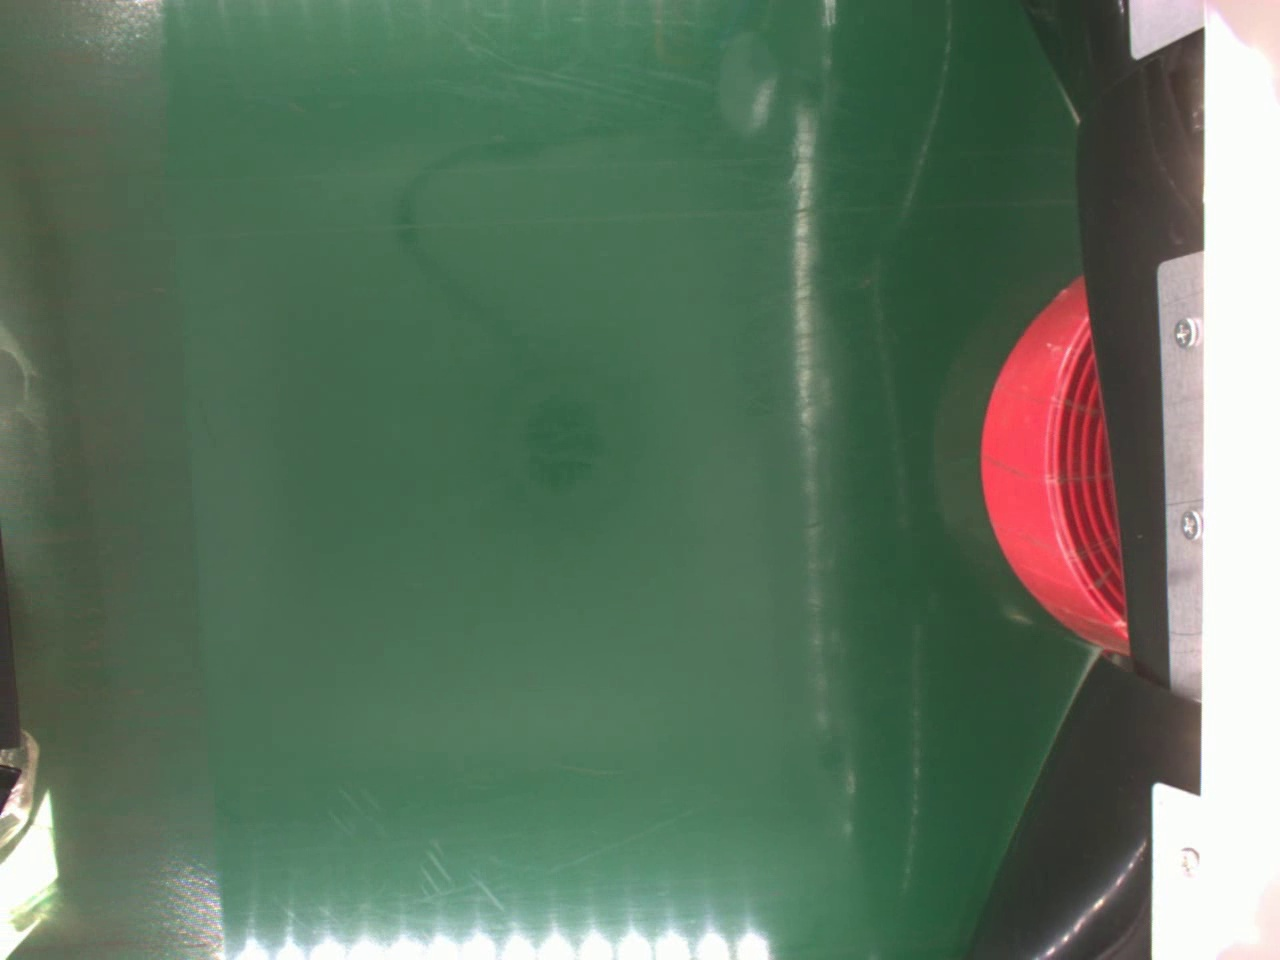red: (978, 274, 1134, 658)
